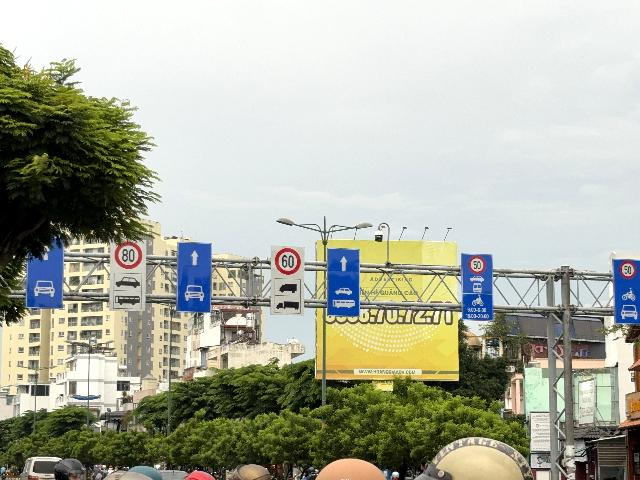toc-do-toi-da-cho-phep: (114, 241, 142, 270), (275, 248, 302, 276), (619, 260, 638, 279), (468, 254, 486, 274)
